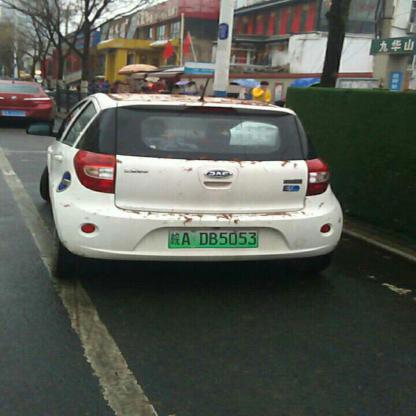lp: (168, 227, 259, 249)
